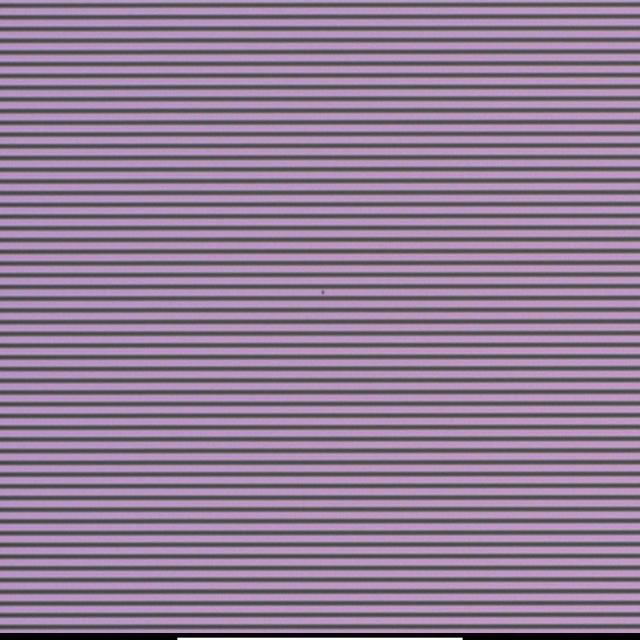nonvisual: (316, 284, 331, 300)
